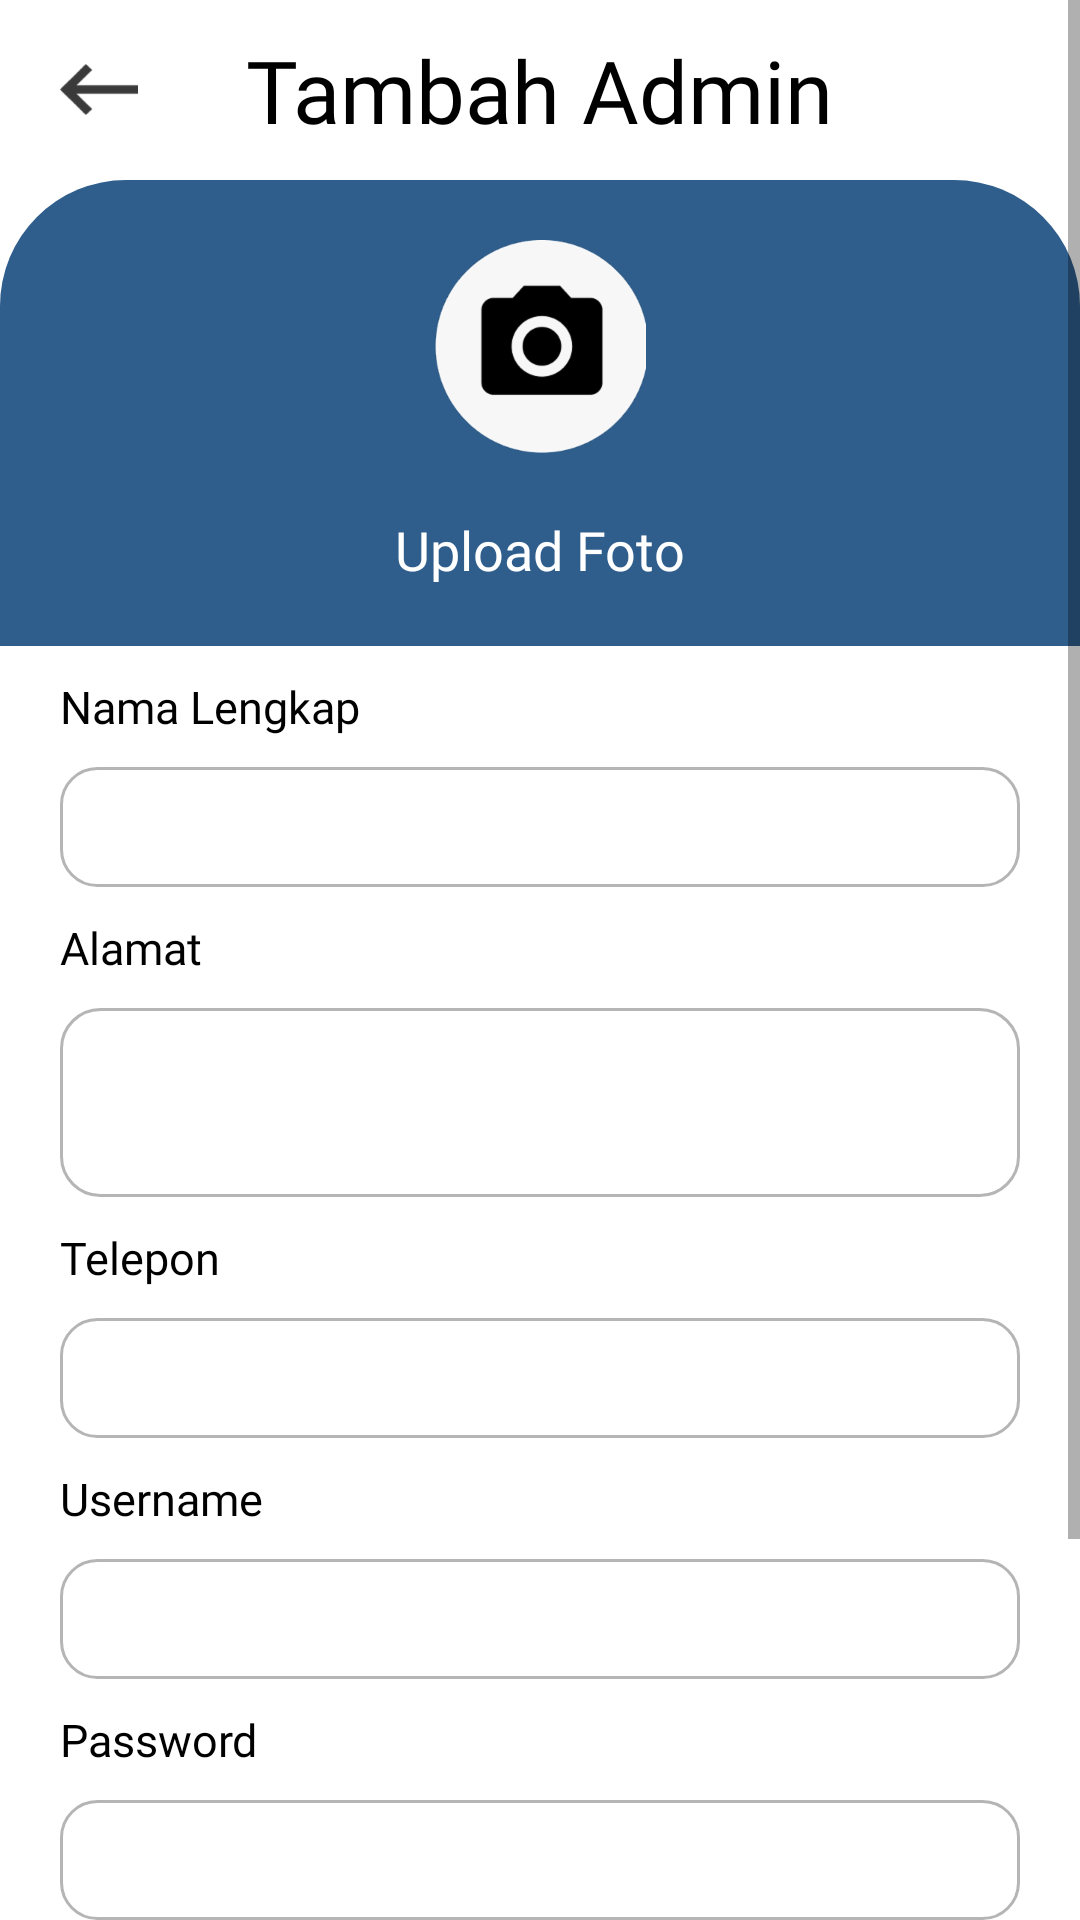

Icon click points for this 1080px x 1920px phone screenshot, format (x=x, y=y):
imgback: (x=99, y=89)
